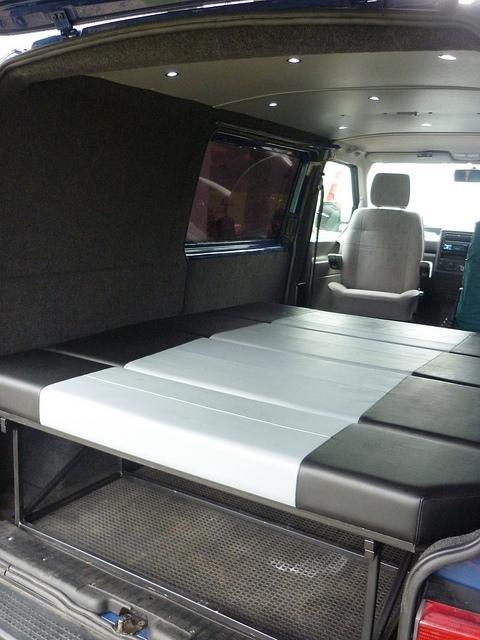car: (0, 1, 478, 630)
